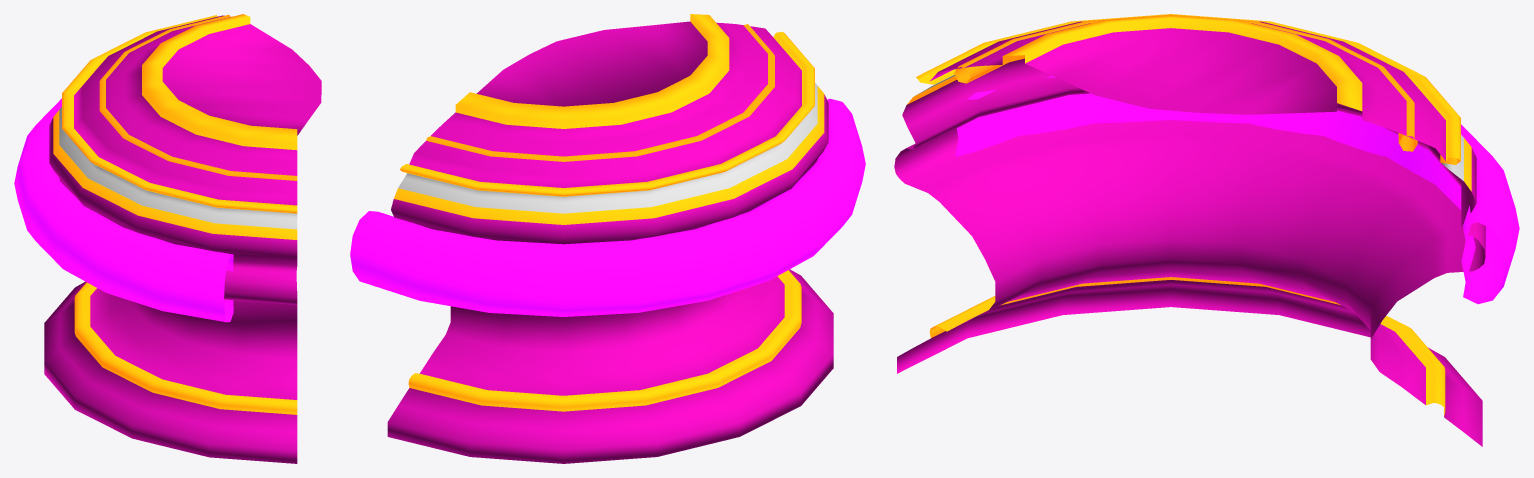
Rendered from GrandCoinBump.fbx.
3 renders of one model, left to right at view 1: azimuth 30°, elevation 25°; view 2: azimuth 150°, elevation 25°; view 3: azimuth 270°, elevation 25°, orthographic. The views are drawn at different scales.
Visible parts, largest first — view 1: Cylinder003, Torus003, Torus002; view 2: Cylinder003, Torus003, Torus002; view 3: Cylinder003, Torus003, Torus002.
Boxes of the visible parts, <box> form: Cylinder003: <box>44,14,321,463</box>; Torus003: <box>14,98,233,322</box>; Torus002: <box>99,15,297,180</box>; Cylinder003: <box>387,14,833,463</box>; Torus003: <box>350,98,865,316</box>; Torus002: <box>426,24,774,161</box>; Cylinder003: <box>894,14,1485,446</box>; Torus003: <box>955,75,1519,304</box>; Torus002: <box>954,14,1417,151</box>.
Size of the model in its own units: 654 by 576 by 932.
